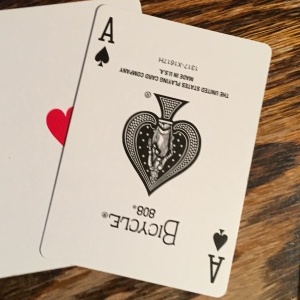card: (44, 3, 272, 297)
